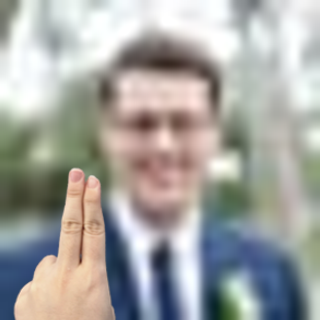DHAVE: (6, 164, 127, 320)
